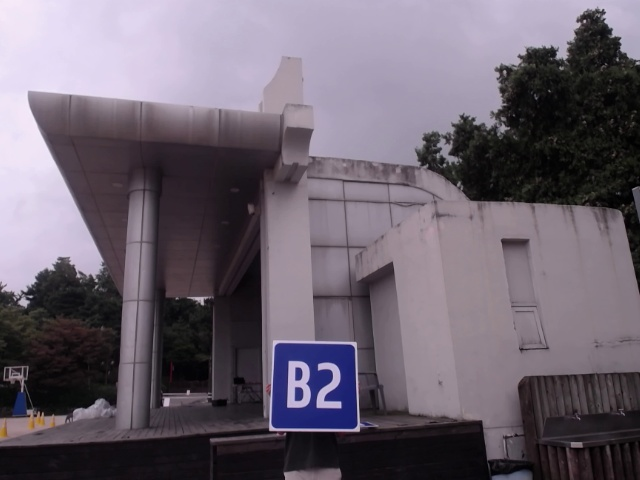delivery_b2: (273, 340, 362, 429)
